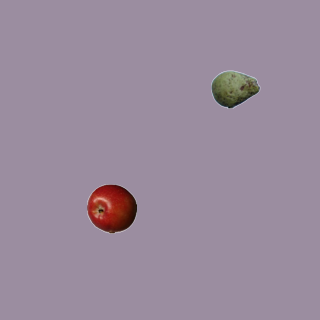Apple Braeburn: (86, 183, 136, 233)
Pear Stone: (210, 64, 260, 114)
